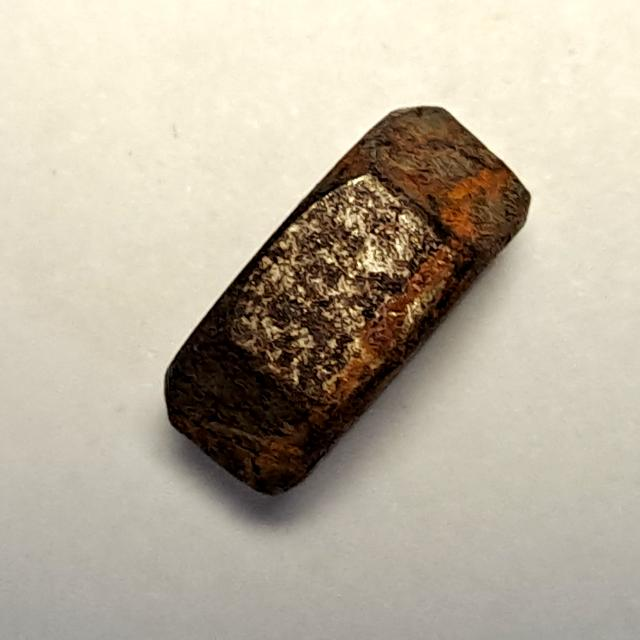Side_Rust: (154, 92, 549, 513)
